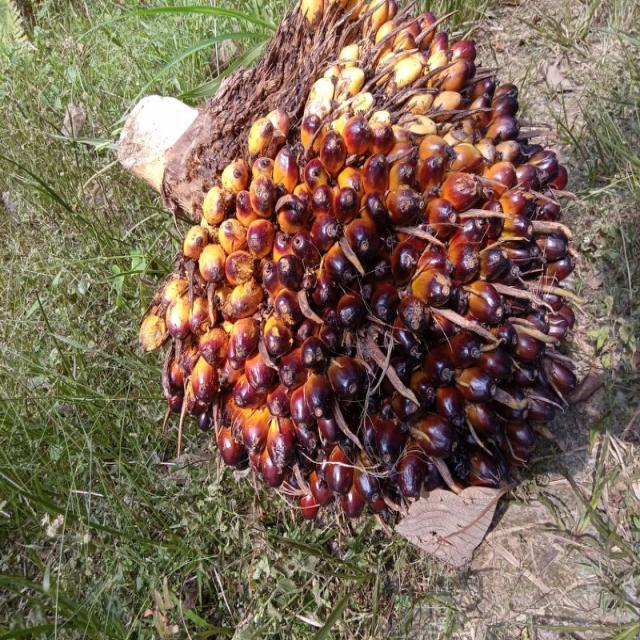fraksi 00: (169, 16, 578, 508)
